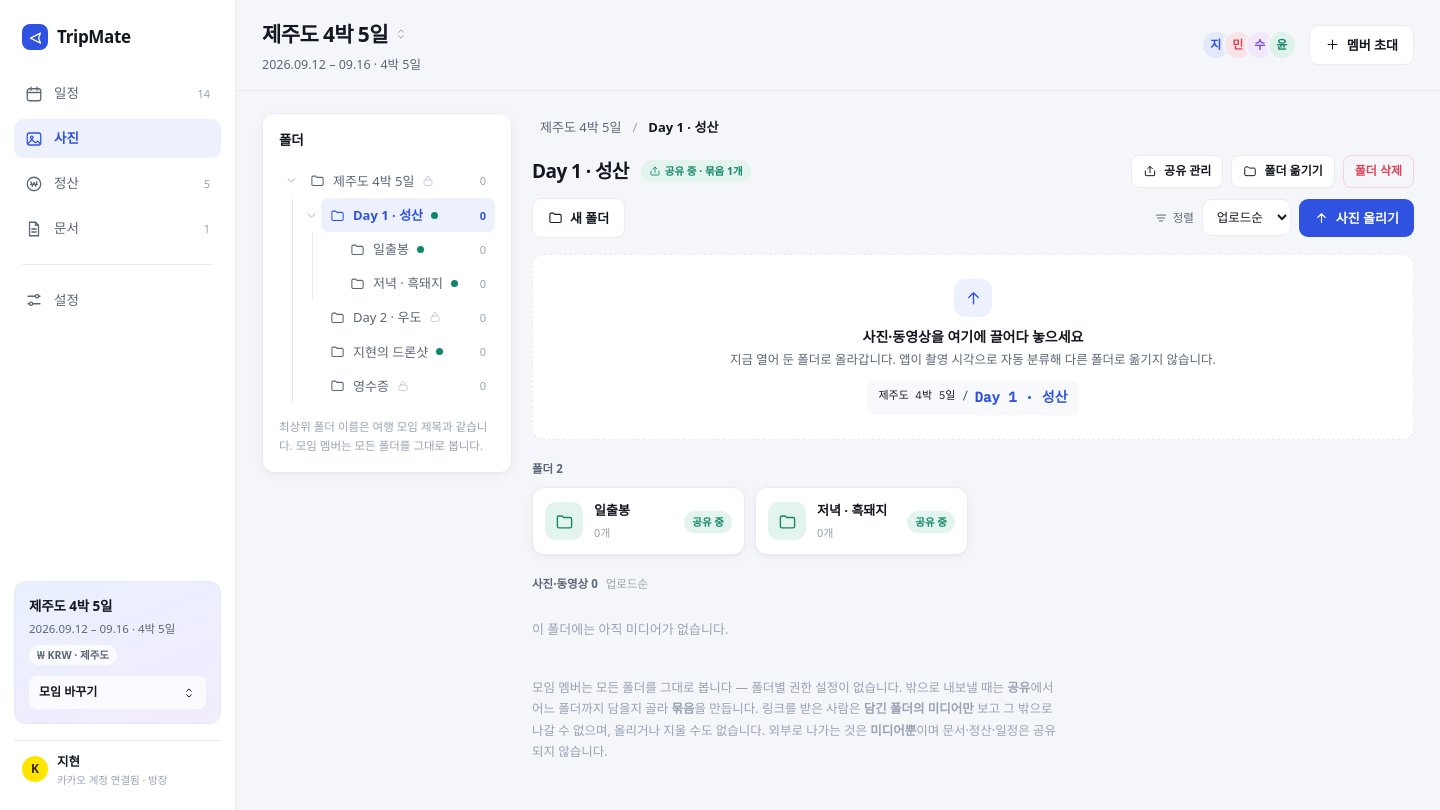
사진 화면 › 중지와 주소 재발급 확인은 브라우저 confirm 이 아니라 모달이다
Expected: the heading "폴더" is shown, x1=279 y1=130 x2=304 y2=151
Step 1. Click the button "공유 관리" → (1177, 171), box x1=1131 y1=155 x2=1223 y2=188
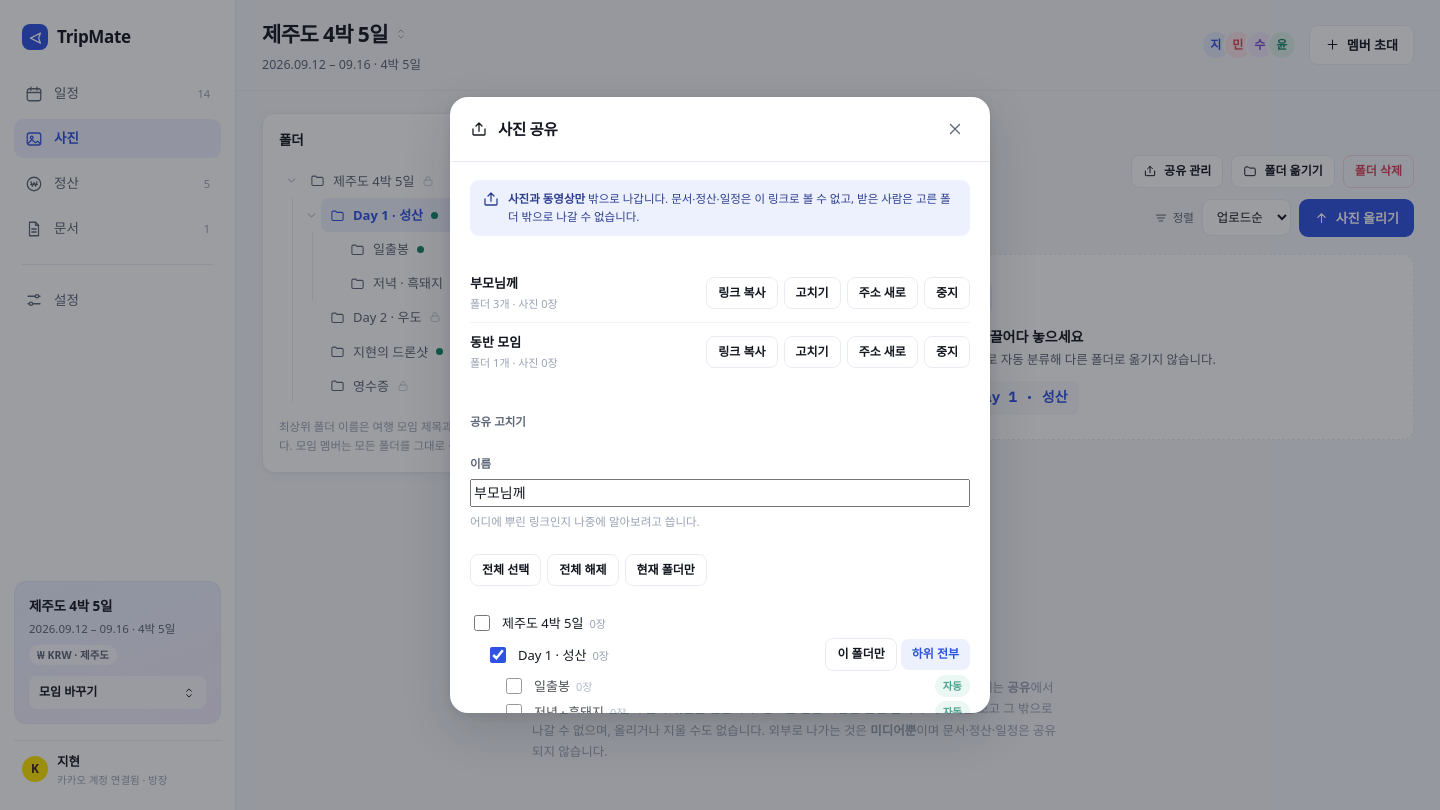
Expected: the dialog is shown, x1=450 y1=97 x2=990 y2=713
Expected: the text "부모님께" is shown, x1=470 y1=274 x2=518 y2=292
Step 2. Click the button "중지" in the row of "부모님께" → (947, 293), box x1=924 y1=277 x2=970 y2=309
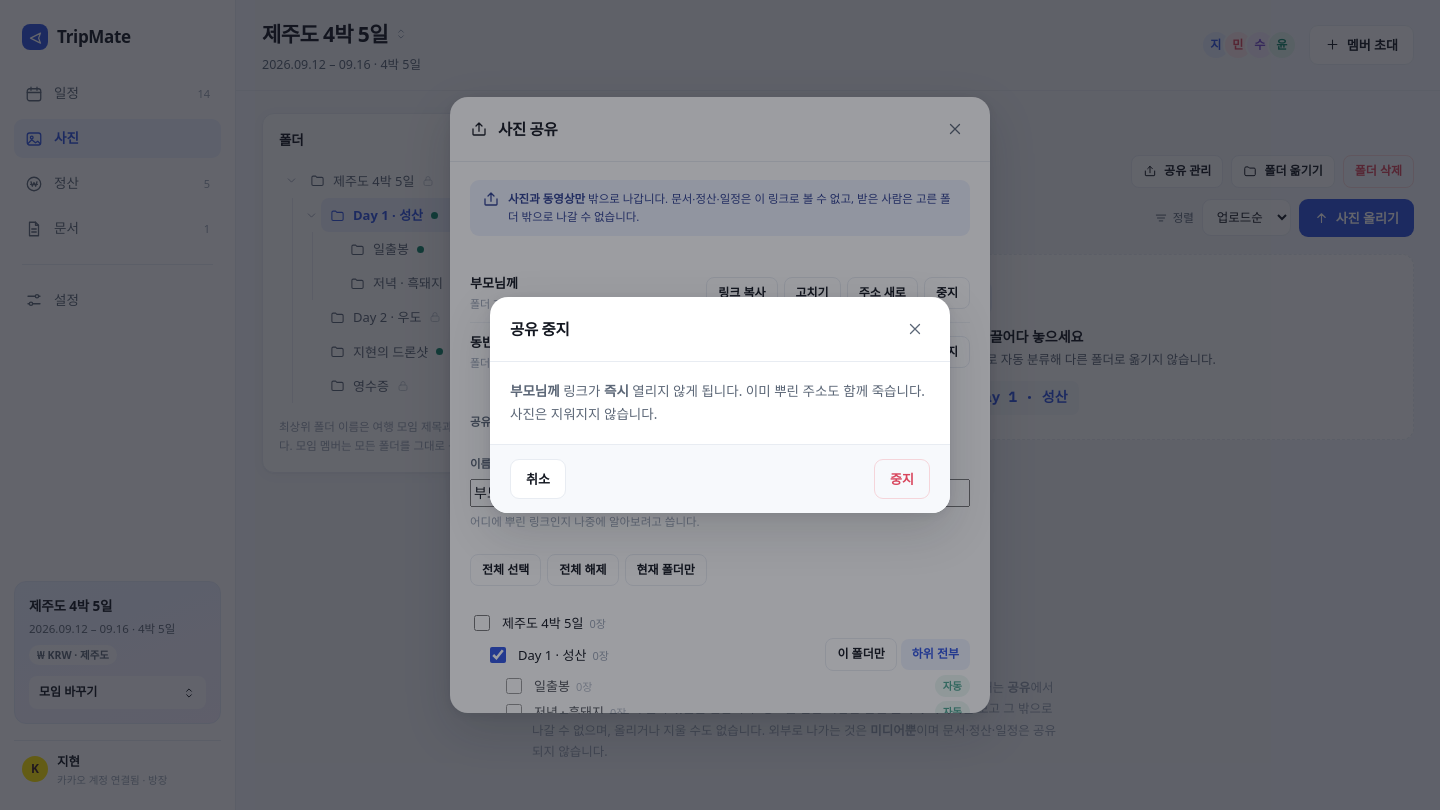
Expected: the dialog "공유 중지" shows "즉시", x1=604 y1=382 x2=629 y2=400
Expected: the dialog "공유 중지" shows "사진은 지워지지 않습니다", x1=510 y1=382 x2=925 y2=423
